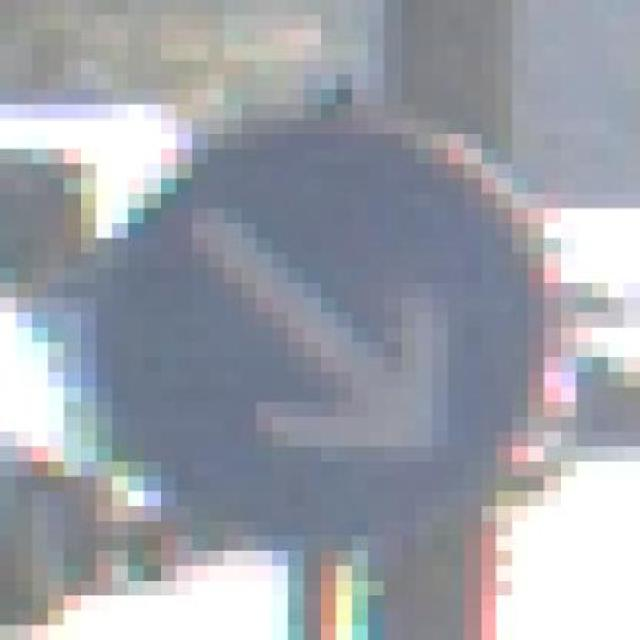Keep-Right: (65, 75, 560, 550)
